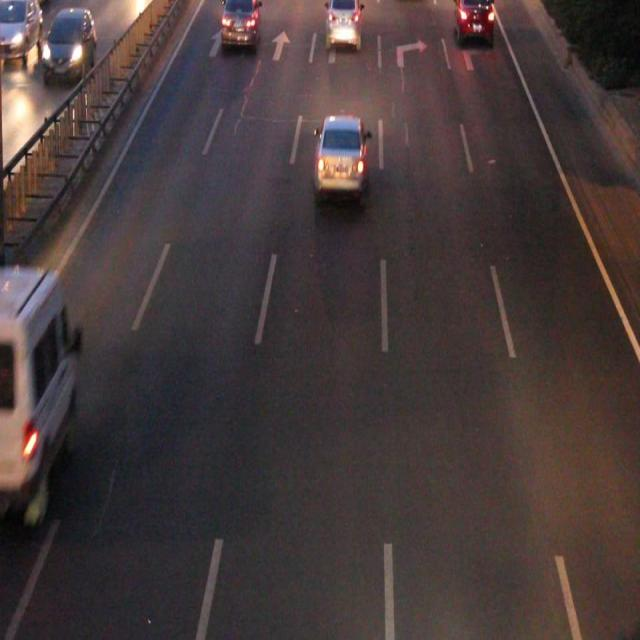car: (318, 119, 364, 187), (222, 1, 259, 45), (326, 1, 360, 44), (454, 1, 490, 40)
truck: (1, 266, 75, 502)
